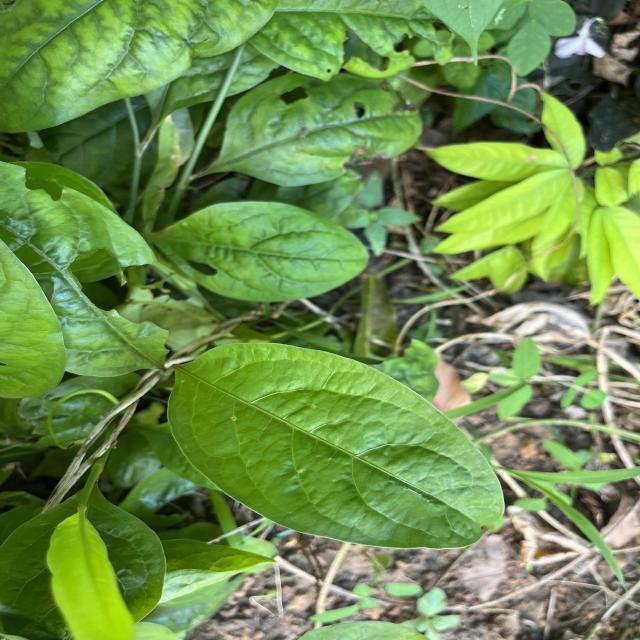Plumbago indica: (161, 338, 513, 552), (153, 196, 376, 306)
